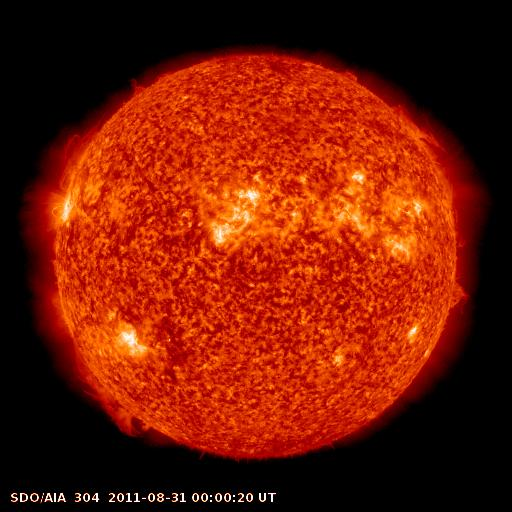prominence: (68, 346, 155, 446), (390, 100, 457, 166), (49, 120, 109, 191), (120, 68, 156, 105), (435, 282, 477, 310)
